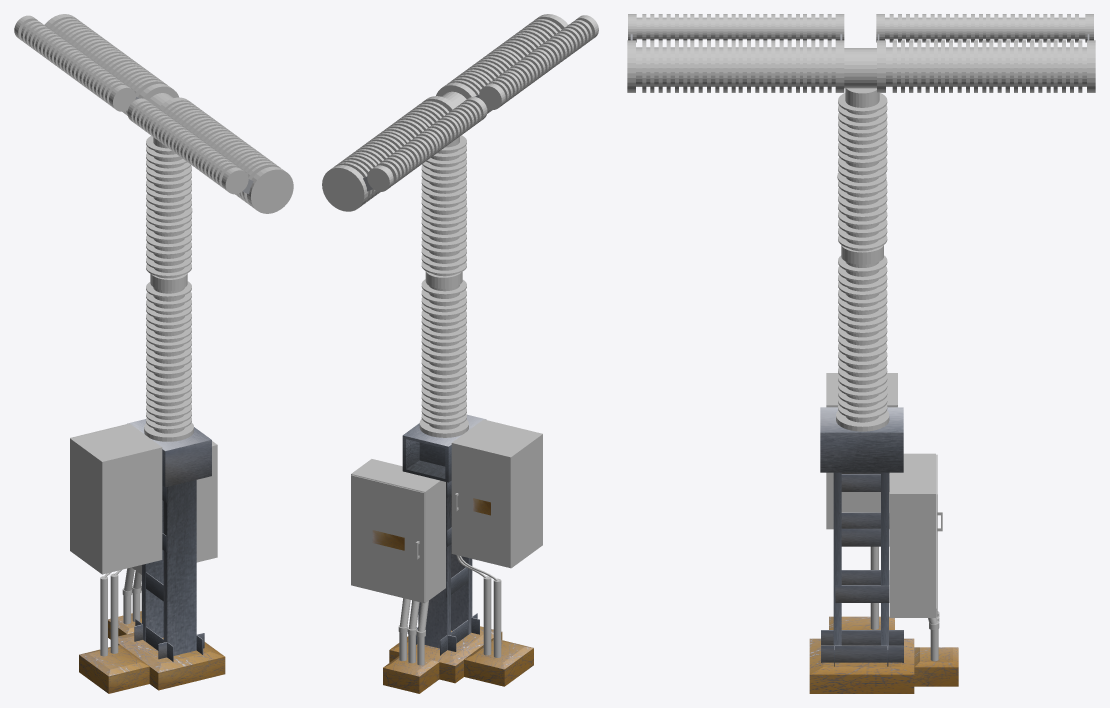
File: Torre2_2cajas.fbx
3 views of the same model, side by side, from view 1: azimuth 30°, elevation 25°; view 2: azimuth 150°, elevation 25°; view 3: azimuth 270°, elevation 25° (orthographic). The views are drawn at different scales.
Visible parts, largest first — view 1: Cube.016; view 2: Cube.016, Plano.001, Cubo.007; view 3: Cube.016.
Part boxes in pixels (box(x1,y1,x2,y2)): Cube.016: box(14, 14, 293, 693); Cube.016: box(322, 14, 598, 693); Plano.001: box(351, 475, 424, 602); Cubo.007: box(451, 442, 510, 567); Cube.016: box(627, 14, 1095, 693).
Size of the model in its own units: 182 by 700 by 464.
